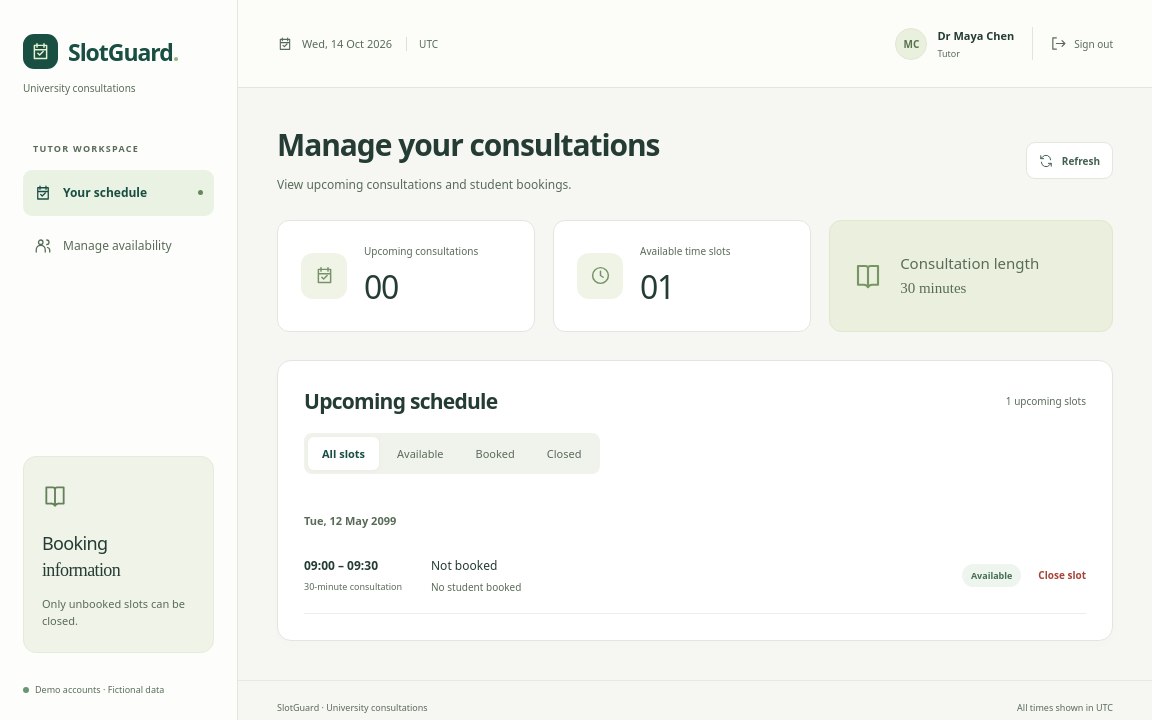
Tutor availability management › shows duplicate-slot conflicts from the backend
Check: the navigation bar named "Main navigation" is shown, box [23, 170, 214, 268]
What coordinates should you click on to do the following:
click the button "Manage availability"
I would click on:
 (118, 246)
Its box is [23, 222, 214, 268].
(page scrolled)
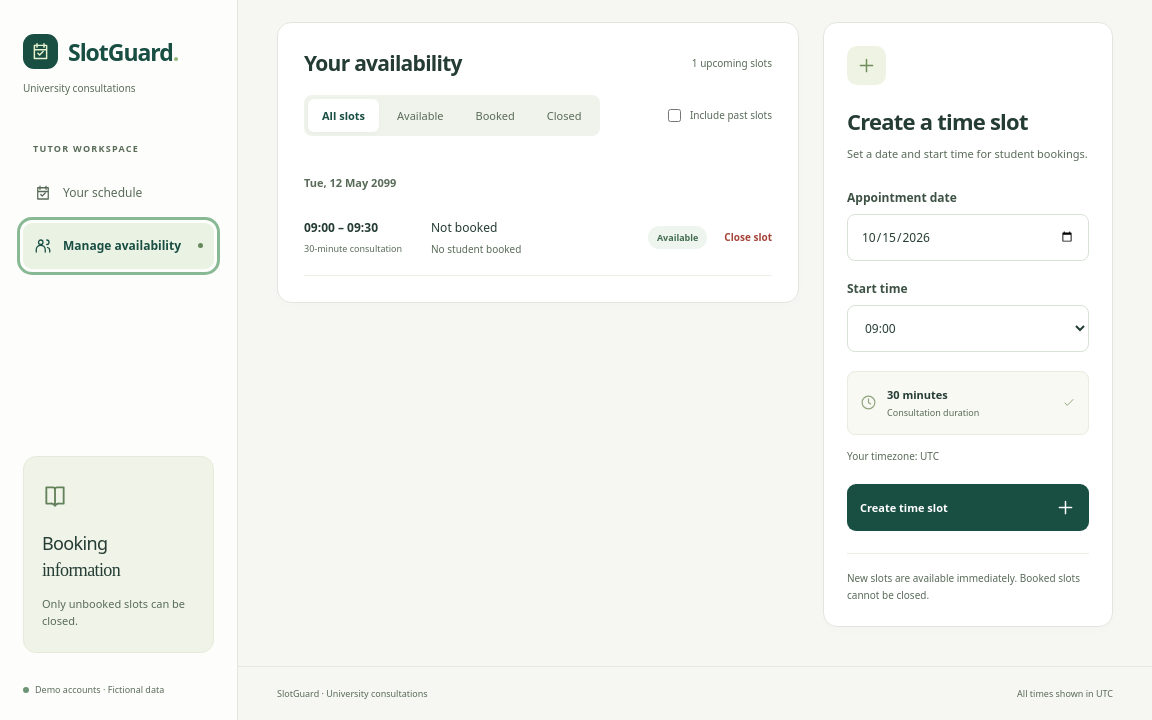
What coordinates should you click on to do the following:
click the button "Create time slot"
I would click on:
 (968, 508)
Its box is [847, 484, 1089, 531].
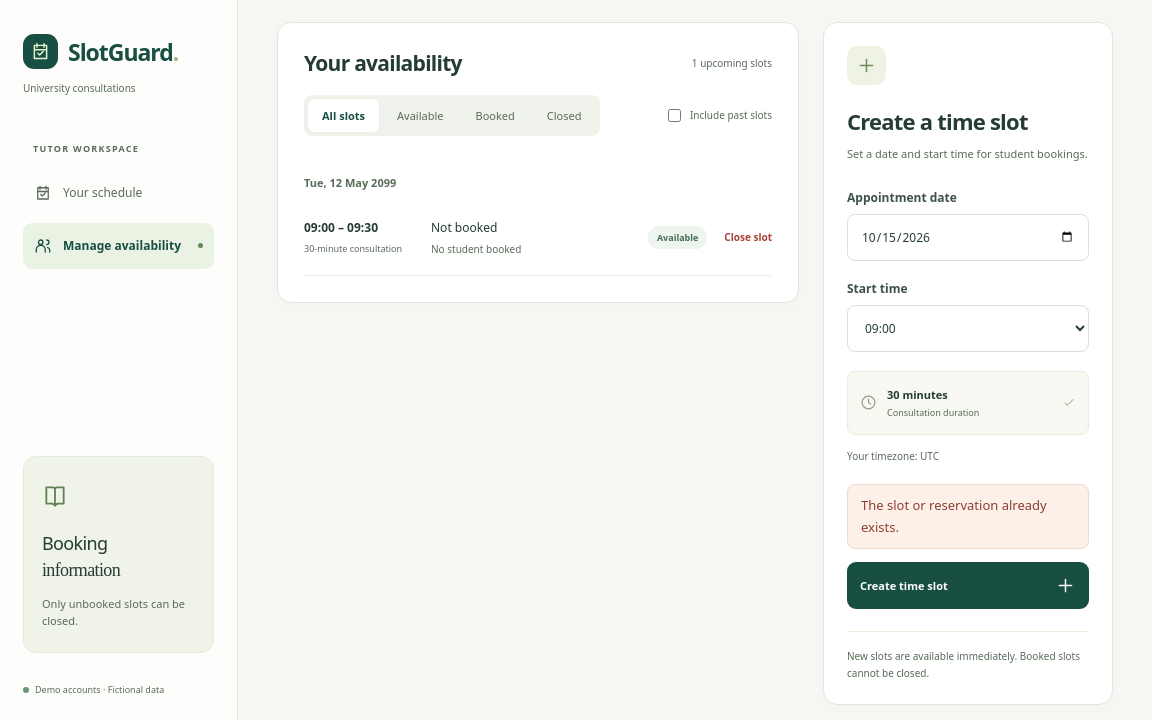
Check: the message shows "already exists", box [861, 496, 1047, 536]
